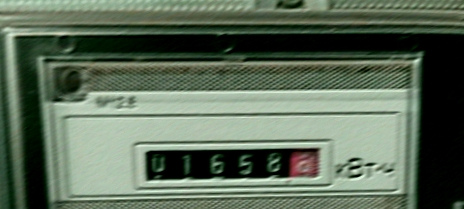0: (149, 151, 166, 173)
1: (179, 152, 193, 176)
5: (237, 152, 253, 176)
6: (208, 152, 226, 176)
8: (265, 151, 282, 173)
9: (294, 158, 310, 179)
screen: (129, 132, 337, 197)
